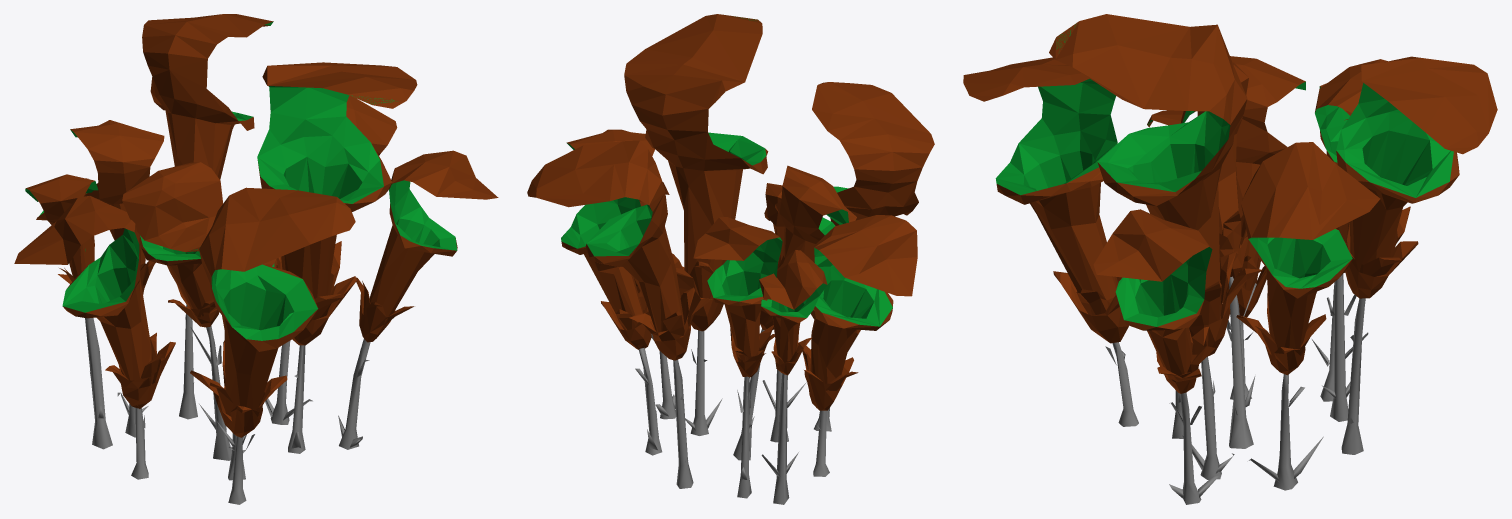
The model's file is ShrubGlove03.fbx.
3 renders of one model, left to right at view 1: azimuth 30°, elevation 25°; view 2: azimuth 150°, elevation 25°; view 3: azimuth 270°, elevation 25°, orthographic. The views are drawn at different scales.
Parts seen in each view (by area): view 1: ShrubGlove03_LOD0; view 2: ShrubGlove03_LOD0; view 3: ShrubGlove03_LOD0.
Boxes of the visible parts, x1,y1,x2,y2 form: ShrubGlove03_LOD0: [14, 14, 498, 504]; ShrubGlove03_LOD0: [527, 14, 934, 504]; ShrubGlove03_LOD0: [963, 14, 1497, 504].
Size of what is drawn, in the model's own units: 164 by 153 by 163.
